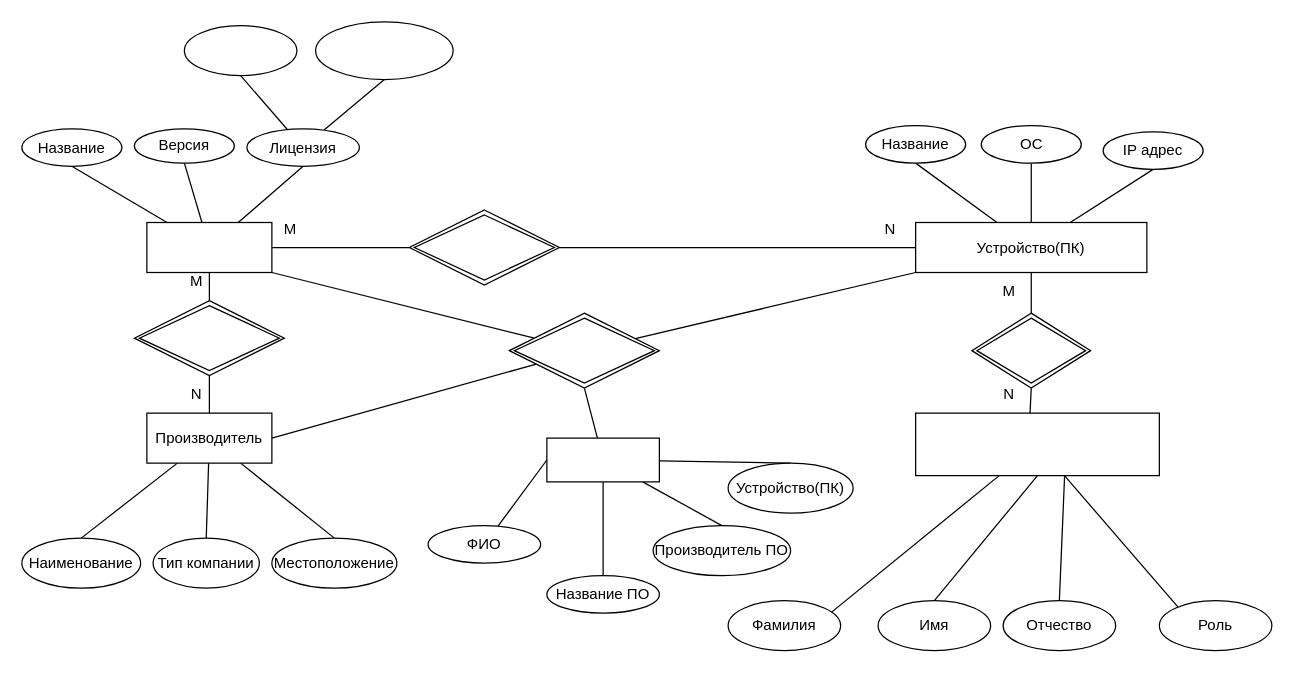
Image size: 1294x675. Some labels were removed from this diagram. Each missing label, with the box of its shape:
Дата начала действия: (183, 24, 297, 76)
Дата окончания действия: (314, 20, 453, 80)
Заявка: (546, 437, 659, 482)
Обслуживает: (971, 312, 1091, 388)
Пользователь: (914, 412, 1159, 476)
Приобретено: (133, 299, 284, 376)
Программное обеспечение: (146, 221, 272, 272)
Содержит: (508, 312, 659, 388)
Установлено: (408, 209, 559, 285)
